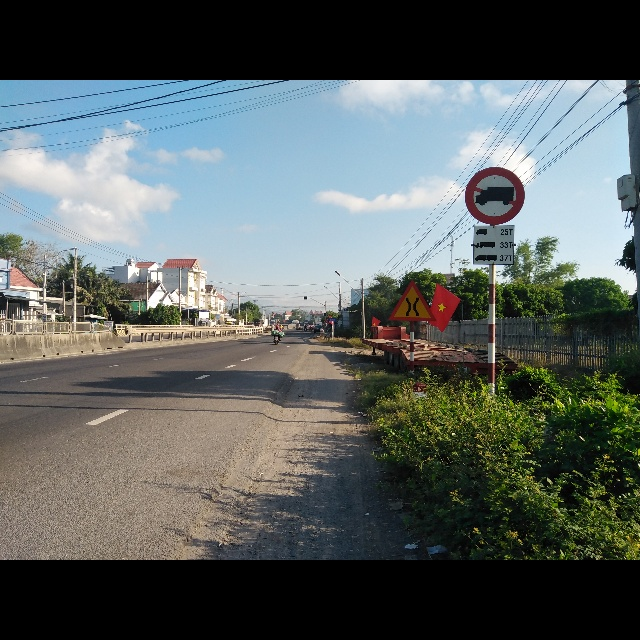Cấm xe tải: (464, 166, 525, 225)
Cầu hẹp: (388, 279, 435, 322)
